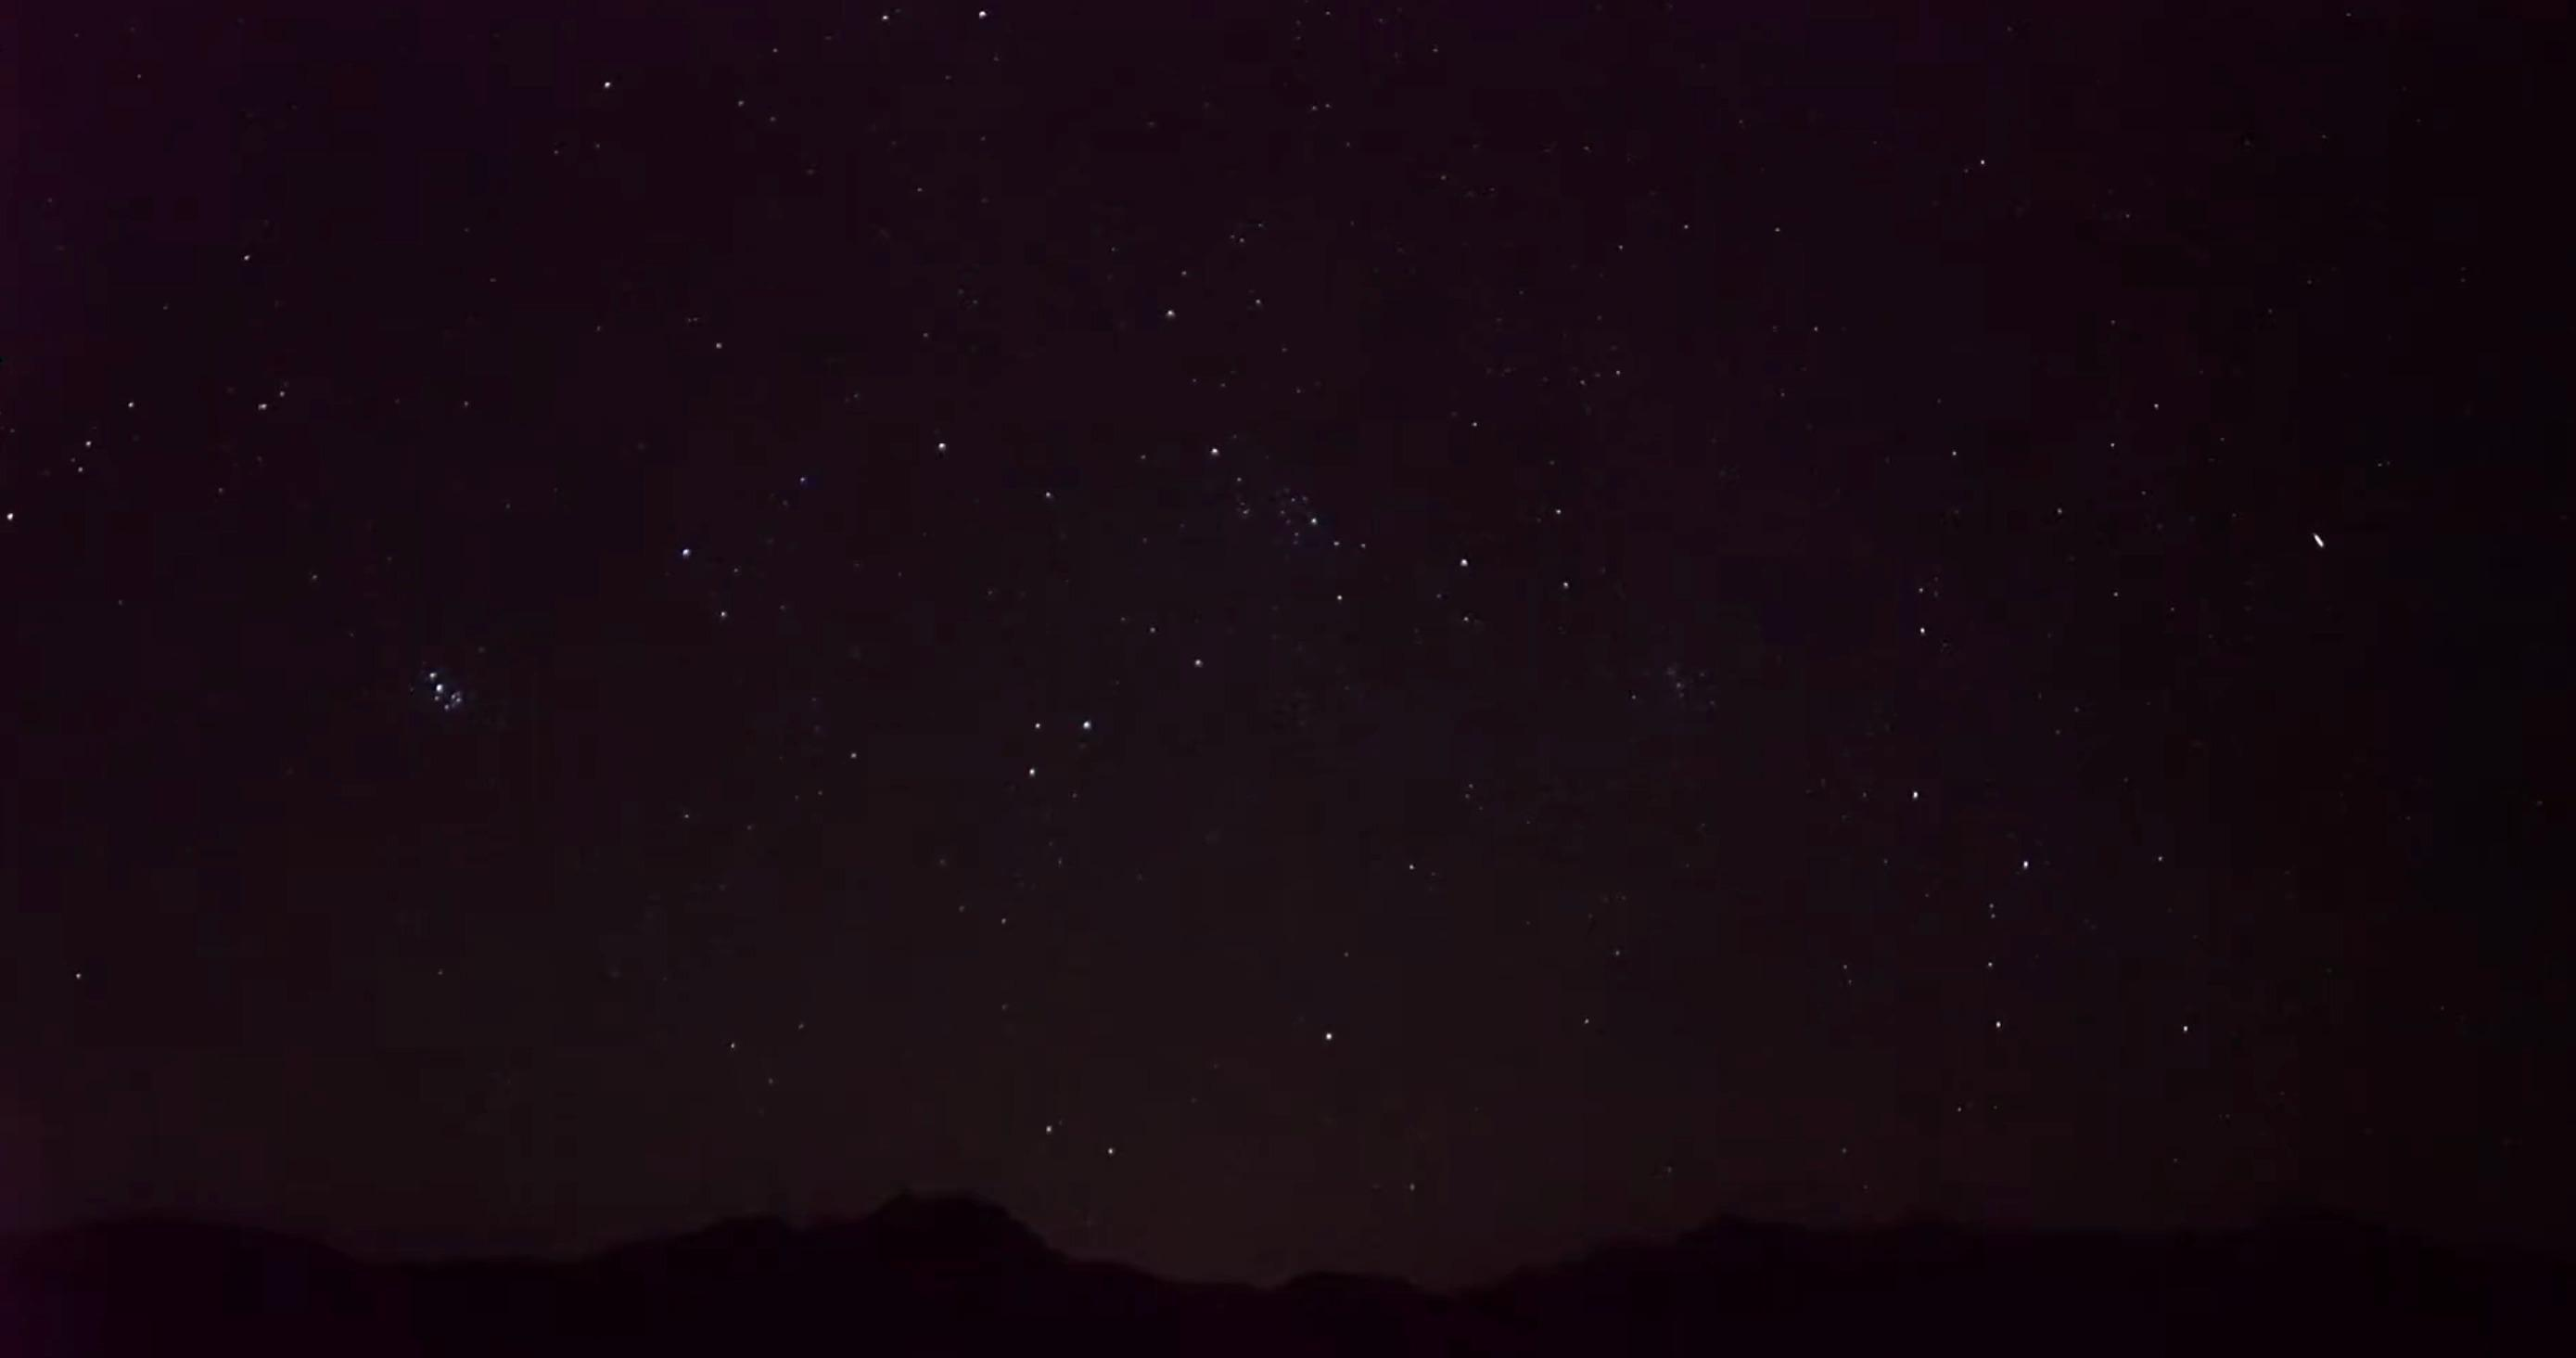meteorite: (2280, 518, 2358, 566)
